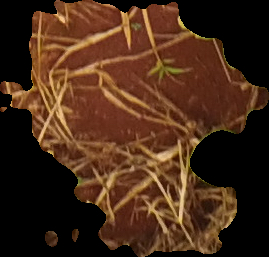soil: (1, 1, 268, 257)
